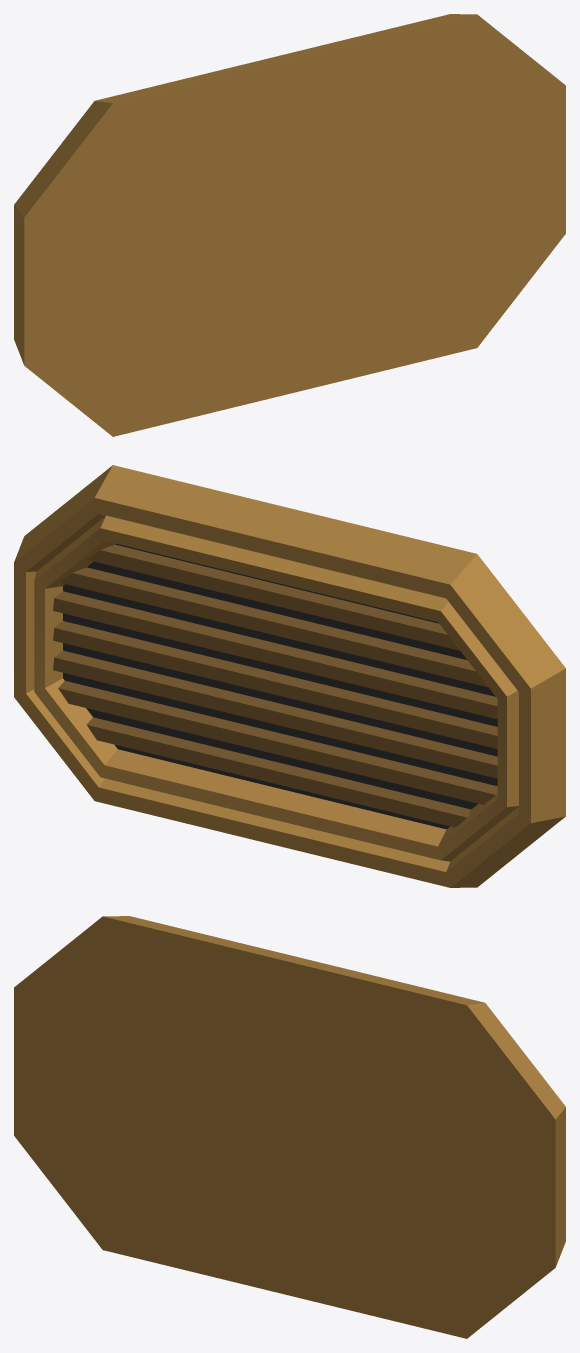
File: Lab_Details_Vent_1.gltf
The picture shows the model from 3 angles, top to bottom: view 1: azimuth 30°, elevation 25°; view 2: azimuth 150°, elevation 25°; view 3: azimuth 330°, elevation 25°; orthographic projection.
Parts seen in each view (by area): view 1: Lab_Details_Vent_1; view 2: Lab_Details_Vent_1; view 3: Lab_Details_Vent_1.
Boxes of the visible parts, x1,y1,x2,y2 form: Lab_Details_Vent_1: (14, 14, 565, 436); Lab_Details_Vent_1: (14, 465, 565, 887); Lab_Details_Vent_1: (14, 916, 565, 1338).
Bounding box in the file's own units: 0.75 × 0.4415 × 0.0588.
